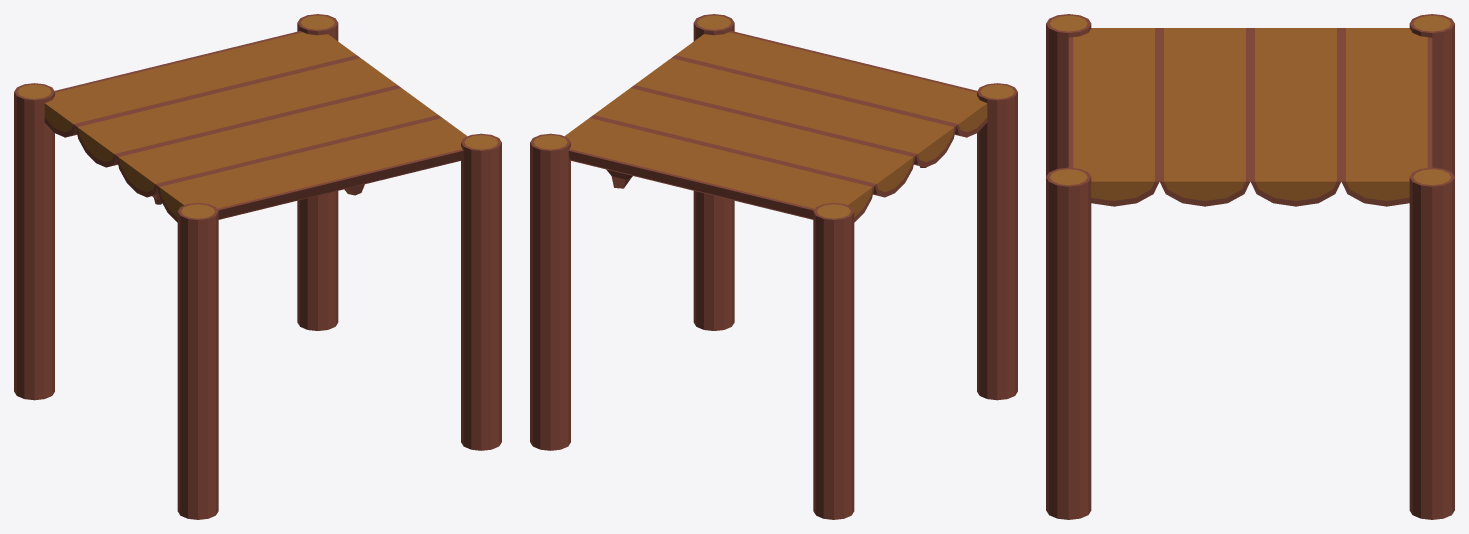
File: woodenfoundation.fbx
3 renders of one model, left to right at view 1: azimuth 30°, elevation 25°; view 2: azimuth 150°, elevation 25°; view 3: azimuth 270°, elevation 25°, orthographic. The views are drawn at different scales.
Parts seen in each view (by area): view 1: Cube; view 2: Cube; view 3: Cube.
Part boxes in pixels (bbox=[...]): Cube: bbox=[14, 14, 501, 519]; Cube: bbox=[530, 14, 1017, 519]; Cube: bbox=[1046, 14, 1454, 519].
Size of the model in its own units: 225 by 202 by 225.
